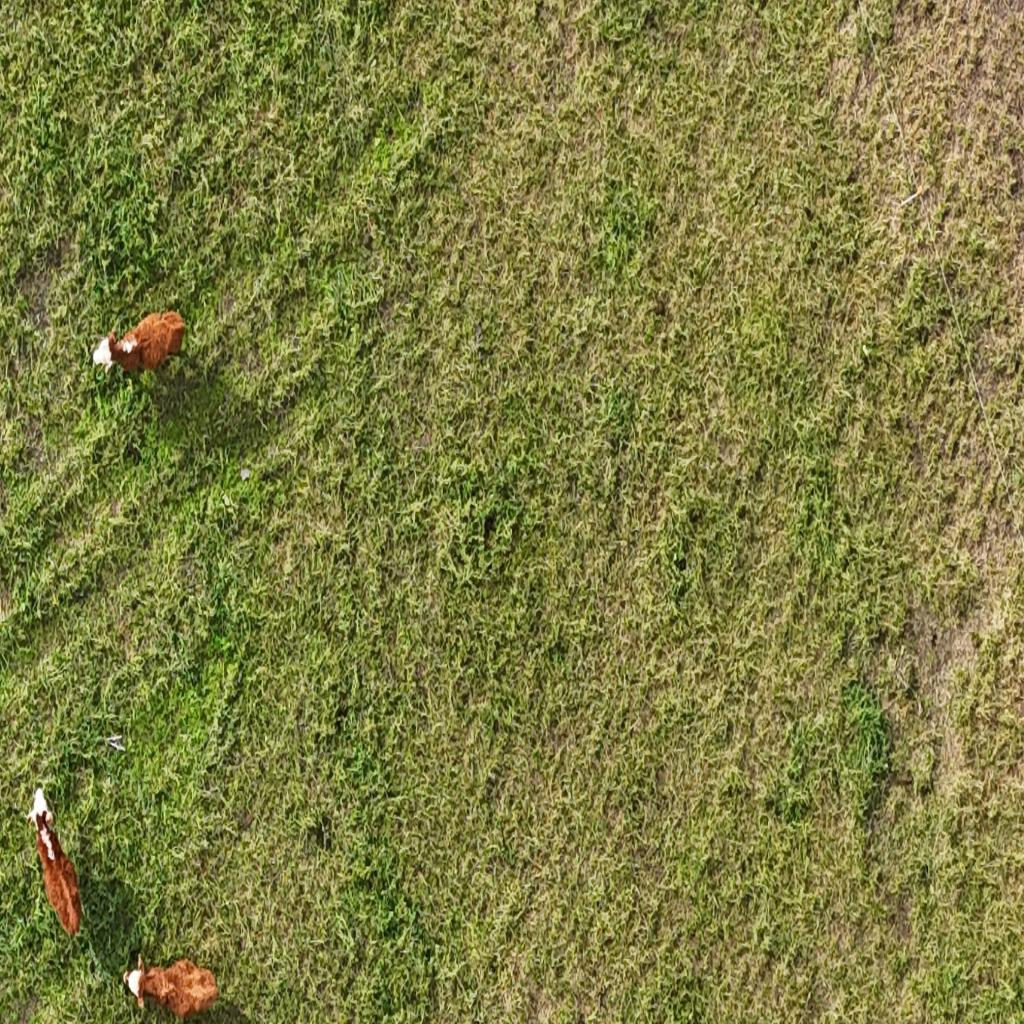cow: (24, 782, 86, 941), (120, 947, 222, 1023), (91, 303, 187, 379)
